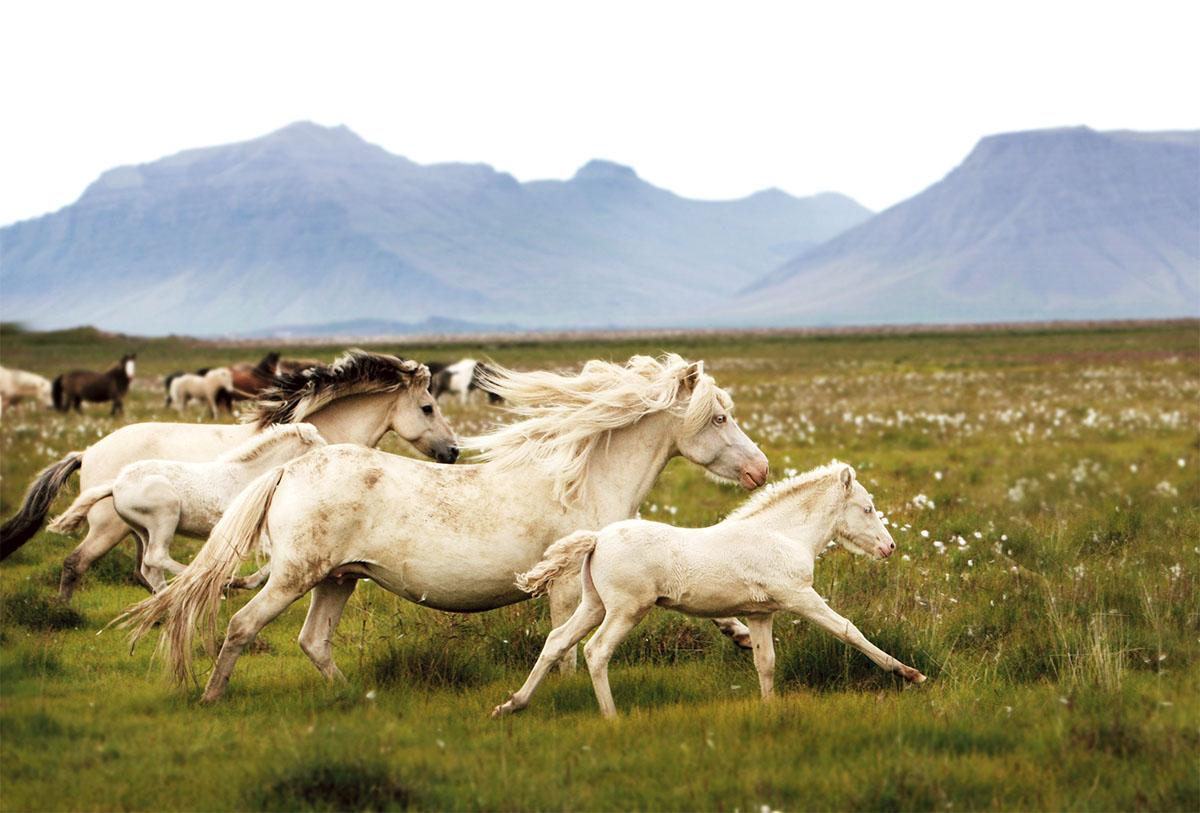animal: (220, 369, 788, 691), (515, 456, 928, 751), (23, 358, 471, 568)
